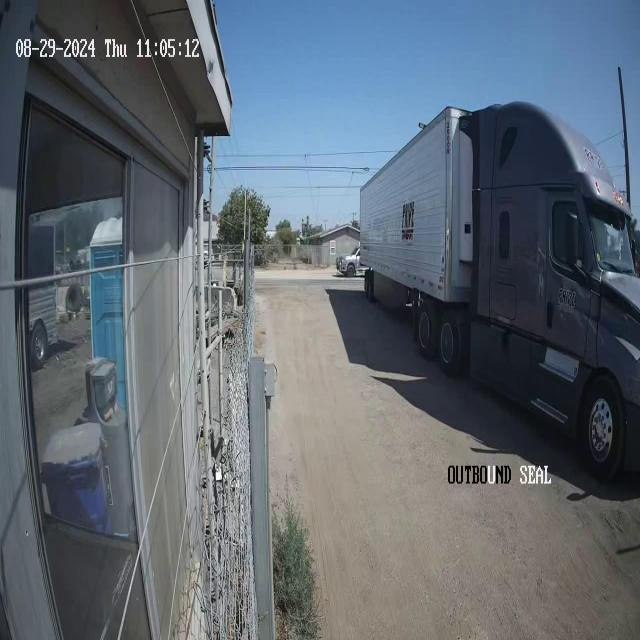TRUCK_IN: (358, 99, 639, 483)
